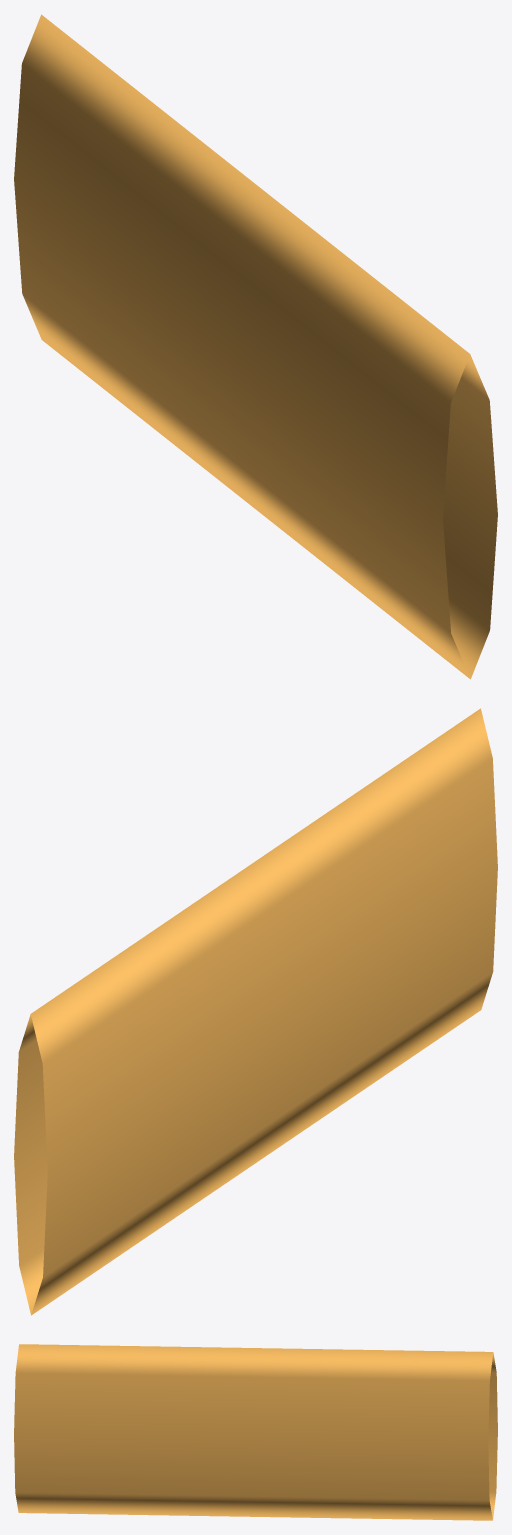
The model's file is Obi Rod1.fbx.
3 views of the same model, one above another, from view 1: azimuth 30°, elevation 25°; view 2: azimuth 150°, elevation 25°; view 3: azimuth 270°, elevation 25° (orthographic). The views are drawn at different scales.
Visible parts, largest first — view 1: Obi_Rod; view 2: Obi_Rod; view 3: Obi_Rod.
Part boxes in pixels (box(x1,y1,x2,y2)): Obi_Rod: box(14, 14, 497, 679); Obi_Rod: box(14, 708, 497, 1315); Obi_Rod: box(14, 1344, 497, 1520).
Size of the model in its own units: 0.6396 by 2.71 by 7.02.
